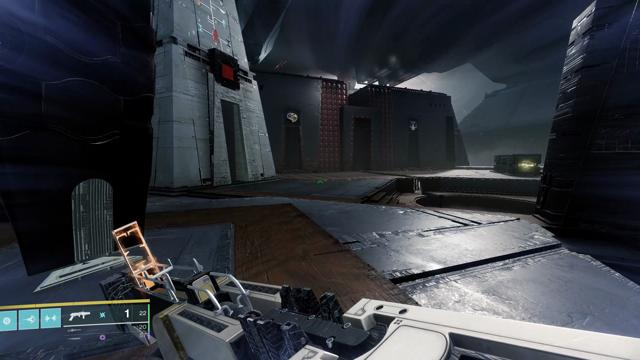brain: (285, 111, 299, 124)
drink: (409, 120, 418, 131)
stop: (218, 58, 237, 84)
